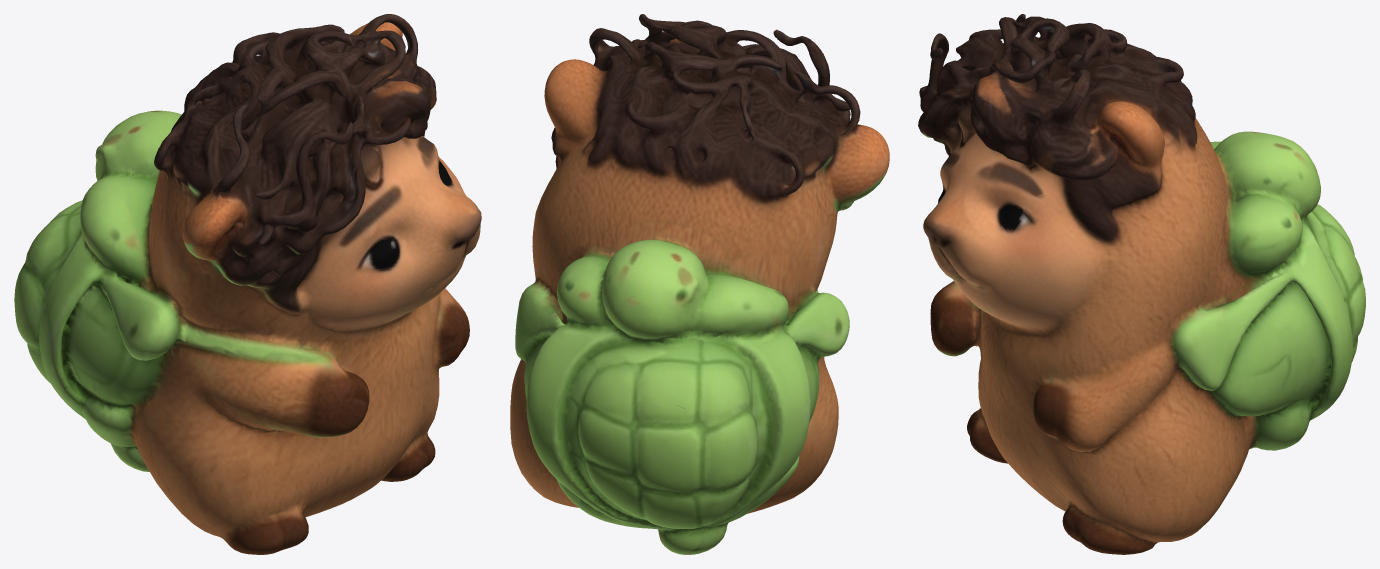
Rendered from CapyB_Single.glb.
3 views of the same model, side by side, from view 1: azimuth 30°, elevation 25°; view 2: azimuth 150°, elevation 25°; view 3: azimuth 270°, elevation 25° (orthographic). The views are drawn at different scales.
Parts seen in each view (by area): view 1: CapyB; view 2: CapyB; view 3: CapyB.
Boxes of the visible parts, x1,y1,x2,y2 form: CapyB: [14, 14, 481, 554]; CapyB: [510, 14, 889, 554]; CapyB: [918, 14, 1365, 554].
Size of the model in its own units: 0.468 by 0.6117 by 0.5214.
1 material, 1 textured.
